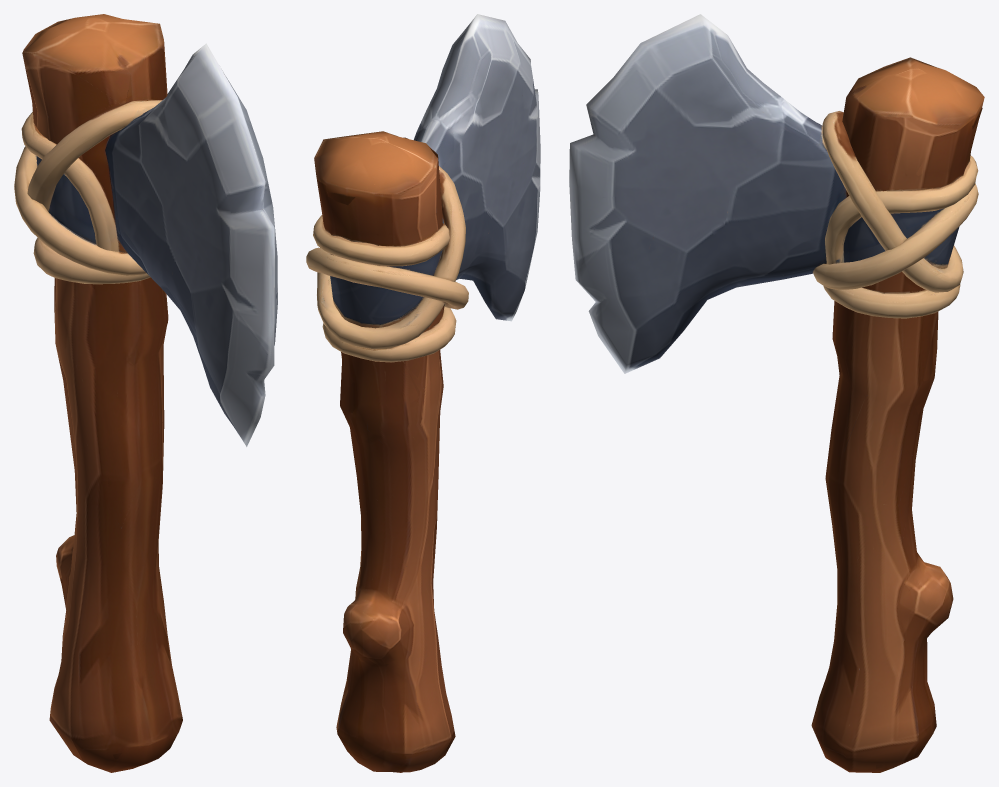
Rendered from SM_Axe_Crude.fbx.
The picture shows the model from 3 angles, left to right: view 1: azimuth 30°, elevation 25°; view 2: azimuth 150°, elevation 25°; view 3: azimuth 270°, elevation 25°; orthographic projection. The views are drawn at different scales.
Parts seen in each view (by area): view 1: SM_Axe_Crude; view 2: SM_Axe_Crude; view 3: SM_Axe_Crude.
Boxes of the visible parts, x1,y1,x2,y2 form: SM_Axe_Crude: (14,14,277,772); SM_Axe_Crude: (306,14,540,772); SM_Axe_Crude: (569,14,984,772).
Bounding box in the file's own units: 0.8093 × 3.6 × 1.81.
1 material, 1 textured.
